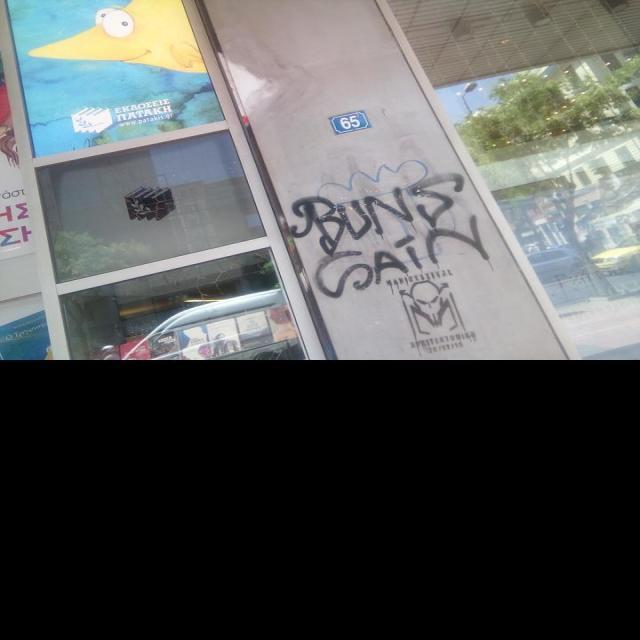nonspitting: (290, 160, 490, 300)
